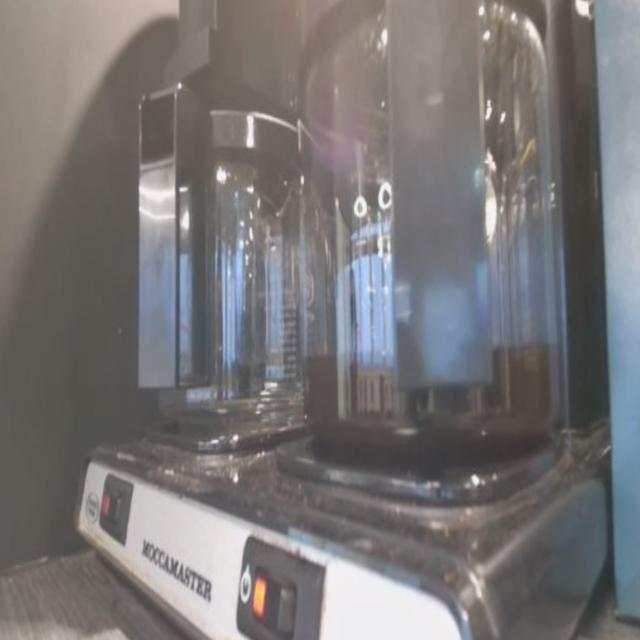coffee: (278, 26, 584, 496)
nocoffee: (130, 81, 324, 446)
